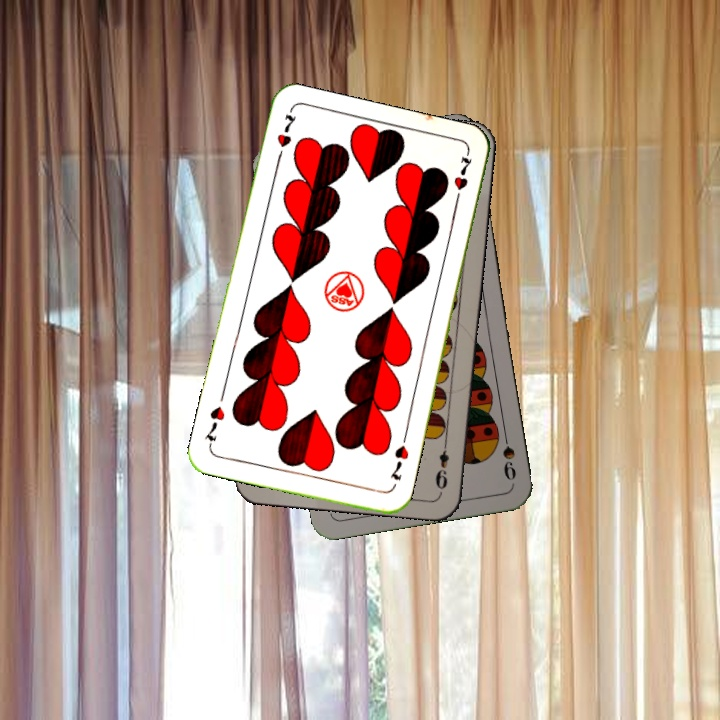E9: (431, 435, 452, 494)
H7: (272, 108, 299, 166), (386, 441, 412, 483)
S9: (498, 425, 519, 483)
